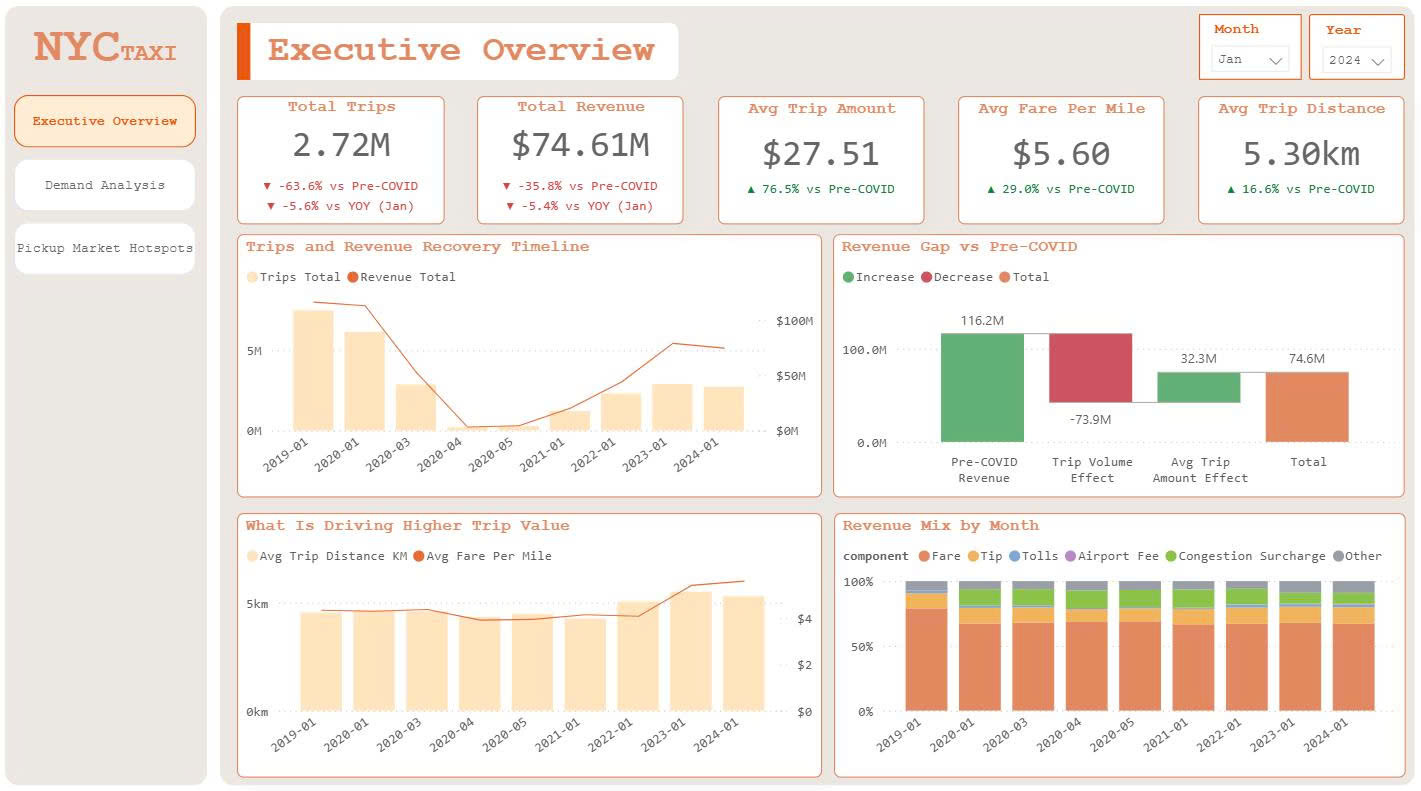

The dashboard page shown, as its layout file describes it:
{"tool":"powerbi","page":{"name":"Executive Overview","canvas":[1280,720],"ordinal":0},"visuals":[{"type":"shape","box":[201,12,1070,698],"z":0},{"type":"slicer","fields":{"Values":["dim_date.year"]},"box":[1176,19,86,59],"z":1000},{"type":"lineClusteredColumnComboChart","title":"Demand and Revenue Recovery Timeline","fields":{"Y":["_Measures_P1.Trips Total"],"Y2":["_Measures_P1.Revenue Total"],"Category":["dim_date.year_month"]},"box":[216,216,524,236],"z":2000},{"type":"waterfallChart","title":"Why Revenue Is Still Below Pre-COVID","fields":{"Category":["Revenue Bridge.bridge_step"],"Y":["_Measures_P1.Revenue Bridge Value"]},"box":[749.8,215.9,511.8,236.2],"z":3000},{"type":"shape","box":[8,12,181,698],"z":4000},{"type":"cardVisual","title":"Avg Fare Per Mile","fields":{"Data":["_Measures_P1.Avg Fare Per Mile"]},"box":[861.5,91.9,185,115.2],"z":5000},{"type":"pageNavigator","box":[16,92,165,85],"z":6000},{"type":"cardVisual","title":"Avg Trip Amount","fields":{"Data":["Avg(mart_daily_trip_revenue.avg_total_amount)"]},"box":[646.4,91.9,185,115.2],"z":7000},{"type":"slicer","fields":{"Values":["dim_date.month_name"]},"box":[1077,19,92,59],"z":8000},{"type":"cardVisual","title":"Avg Trip Distance","fields":{"Data":["_Measures_P1.Avg Trip Distance KM1"]},"box":[1076.5,91.9,185,115],"z":9000},{"type":"cardVisual","title":"Total Trips","fields":{"Data":["_Measures_P1.Trips Total"]},"box":[215.8,91.9,186,115],"z":10000},{"type":"cardVisual","title":"Total Revenue","fields":{"Data":["_Measures_P1.Revenue Total"]},"box":[431.1,91.9,185,115],"z":11000},{"type":"lineClusteredColumnComboChart","title":"What Is Driving Higher Trip Value","fields":{"Y":["_Measures_P1.Avg Trip Distance KM"],"Y2":["_Measures_P1.Avg Fare Per Mile"],"Category":["dim_date.year_month"]},"box":[216,466,524,237],"z":12000},{"type":"hundredPercentStackedColumnChart","title":"Revenue Component Mix by Month","fields":{"Category":["dim_date.year_month"],"Y":["_Measures_P1.Revenue Component Value"],"Series":["Revenue Component.component"]},"box":[750,466,512,237],"z":13000},{"type":"textbox","box":[26,19,145,59],"z":14000},{"type":"textbox","box":[222,27,389,51],"z":15000},{"type":"shape","box":[216,27,12,51],"z":16000}]}

Visuals, with their boxes in screenshot pixels (x1, y1, x2, y2), scaled from the page's 1280x720 canvas onto the 1421x791 screenshot:
shape: crop(223, 13, 1411, 780)
slicer - dim_date.year: crop(1306, 21, 1401, 86)
"Demand and Revenue Recovery Timeline" lineClusteredColumnComboChart: crop(240, 237, 822, 497)
"Why Revenue Is Still Below Pre-COVID" waterfallChart: crop(832, 237, 1401, 497)
shape: crop(9, 13, 210, 780)
"Avg Fare Per Mile" cardVisual: crop(956, 101, 1162, 228)
pageNavigator: crop(18, 101, 201, 194)
"Avg Trip Amount" cardVisual: crop(718, 101, 923, 228)
slicer - dim_date.month_name: crop(1196, 21, 1298, 86)
"Avg Trip Distance" cardVisual: crop(1195, 101, 1400, 227)
"Total Trips" cardVisual: crop(240, 101, 446, 227)
"Total Revenue" cardVisual: crop(479, 101, 684, 227)
"What Is Driving Higher Trip Value" lineClusteredColumnComboChart: crop(240, 512, 822, 772)
"Revenue Component Mix by Month" hundredPercentStackedColumnChart: crop(833, 512, 1401, 772)
textbox: crop(29, 21, 190, 86)
textbox: crop(246, 30, 678, 86)
shape: crop(240, 30, 253, 86)
